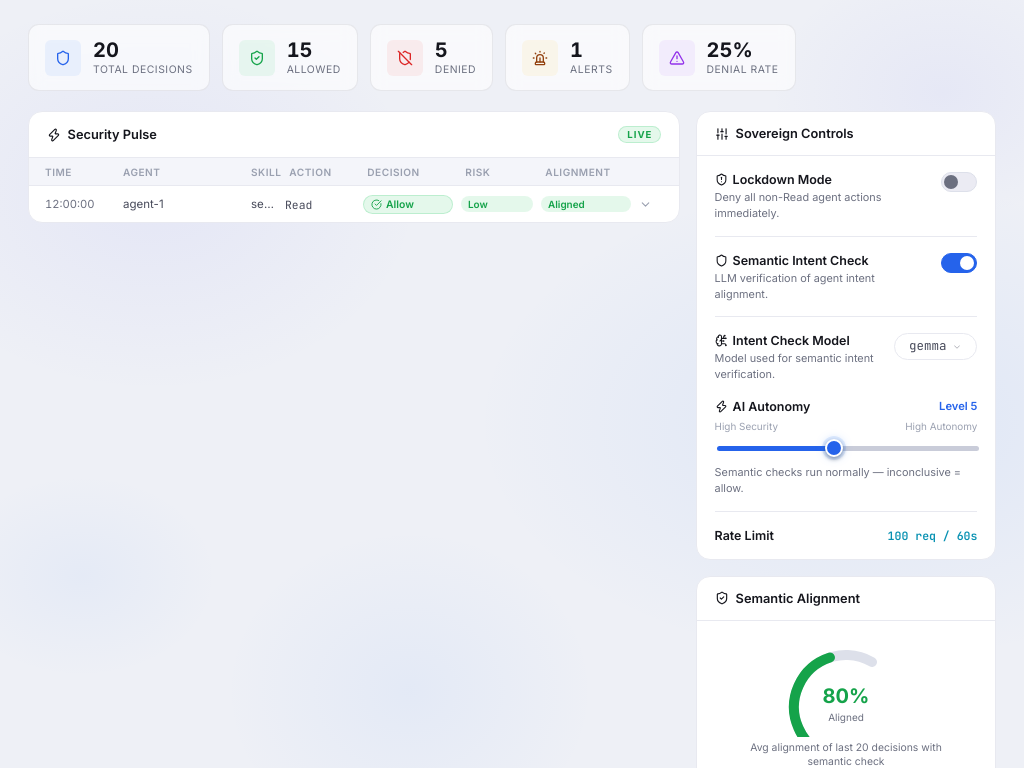
Sentinel states › renders an audit row and expands it to reveal the reason
This screenshot has width=1024, height=768.
Click the text "agent-1" at [143, 204], box [123,197,164,211]
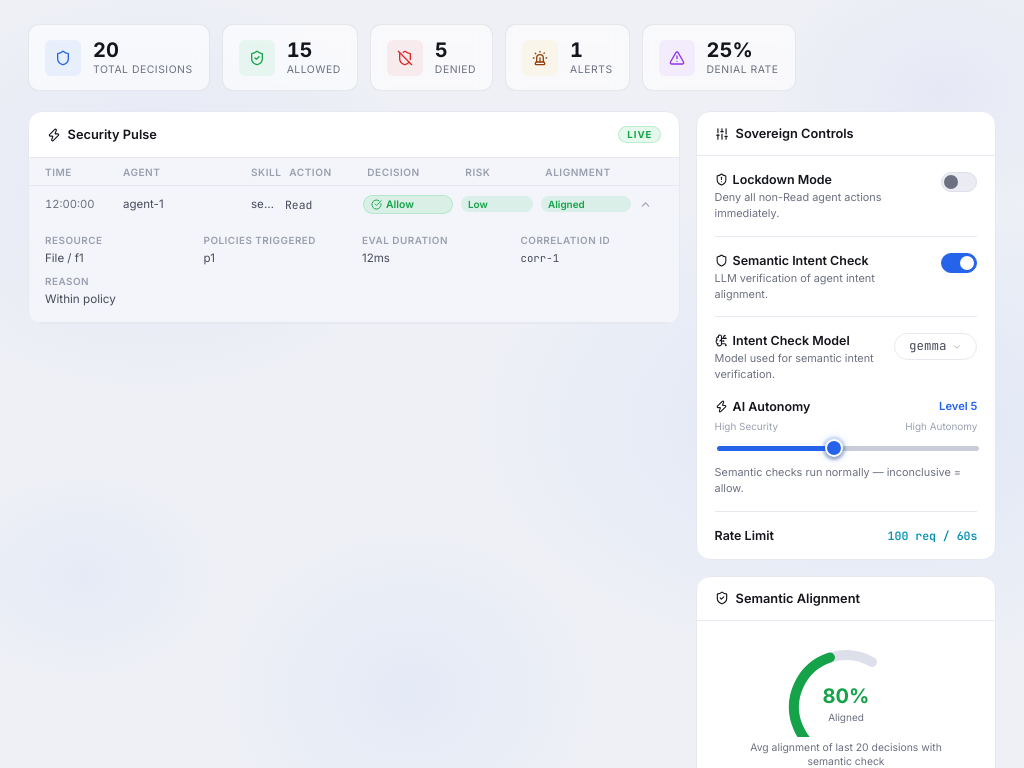
Now the text "Within policy" is shown, box [45,292,116,306]
